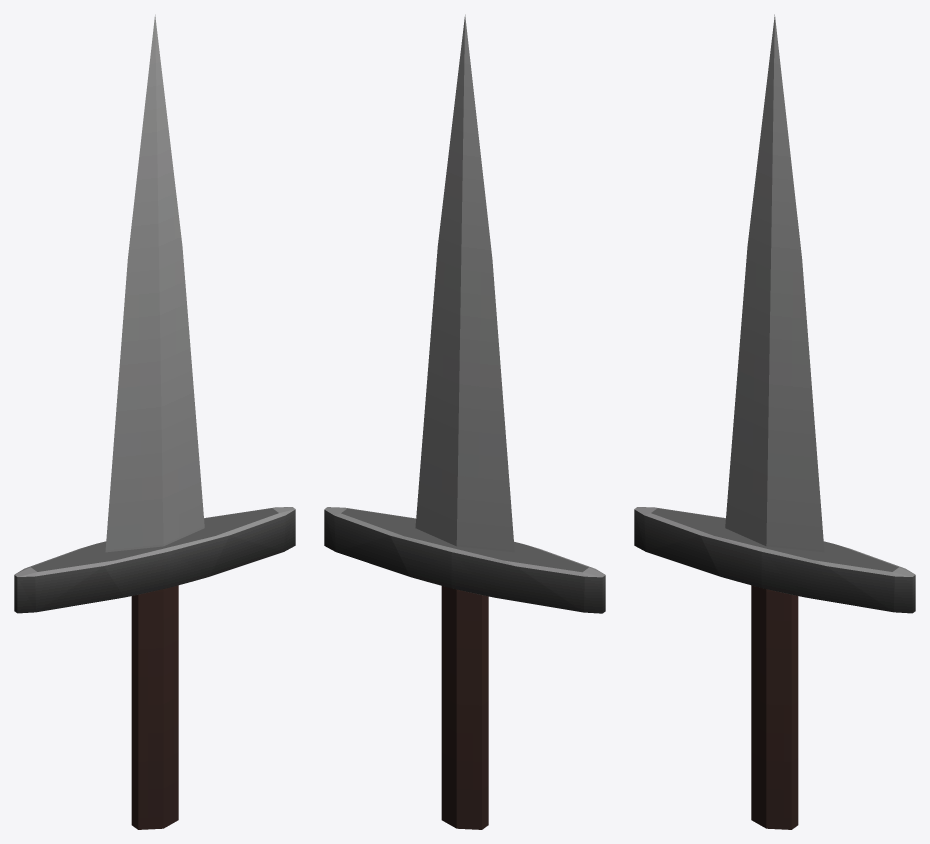
The model's file is Dagger.fbx.
3 renders of one model, left to right at view 1: azimuth 30°, elevation 25°; view 2: azimuth 150°, elevation 25°; view 3: azimuth 330°, elevation 25°, orthographic.
Visible parts, largest first — view 1: Dagger; view 2: Dagger; view 3: Dagger.
Part boxes in pixels (x1,y1,x2,y2): Dagger: (14,14,295,829); Dagger: (324,14,605,829); Dagger: (634,14,915,829).
Size of the model in its own units: 18.89 by 52.44 by 3.16.
